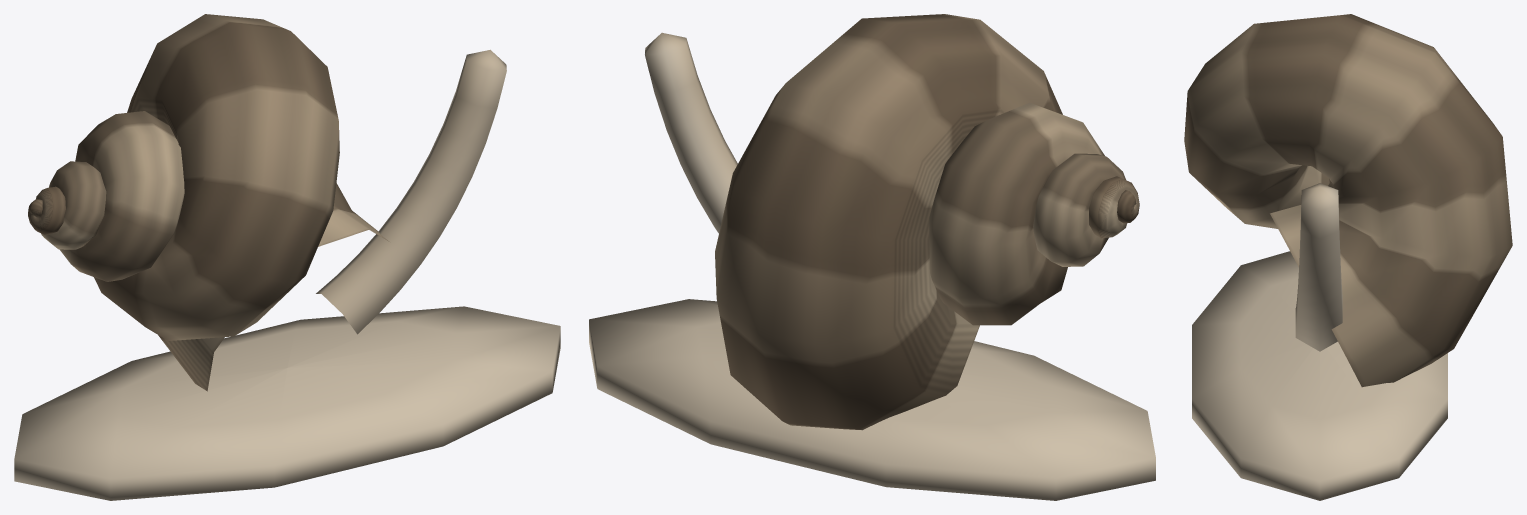
File: nassarius.glb
3 views of the same model, side by side, from view 1: azimuth 30°, elevation 25°; view 2: azimuth 150°, elevation 25°; view 3: azimuth 270°, elevation 25° (orthographic). The views are drawn at different scales.
Parts seen in each view (by area): view 1: Shell, Foot, Siphon; view 2: Shell, Foot, Siphon; view 3: Shell, Foot, Siphon.
Boxes of the visible parts, x1=… form: Shell: x1=28, y1=14, x2=389, y2=391; Foot: x1=14, y1=306, x2=560, y2=500; Siphon: x1=316, y1=49, x2=506, y2=334; Shell: x1=715, y1=14, x2=1139, y2=430; Foot: x1=589, y1=299, x2=1155, y2=500; Siphon: x1=645, y1=32, x2=737, y2=233; Shell: x1=1184, y1=14, x2=1512, y2=387; Foot: x1=1192, y1=251, x2=1447, y2=500; Siphon: x1=1295, y1=183, x2=1342, y2=351.
Size of the model in its own units: 1 by 0.7265 by 0.5816.
Materials: 1 (1 with a texture image).
